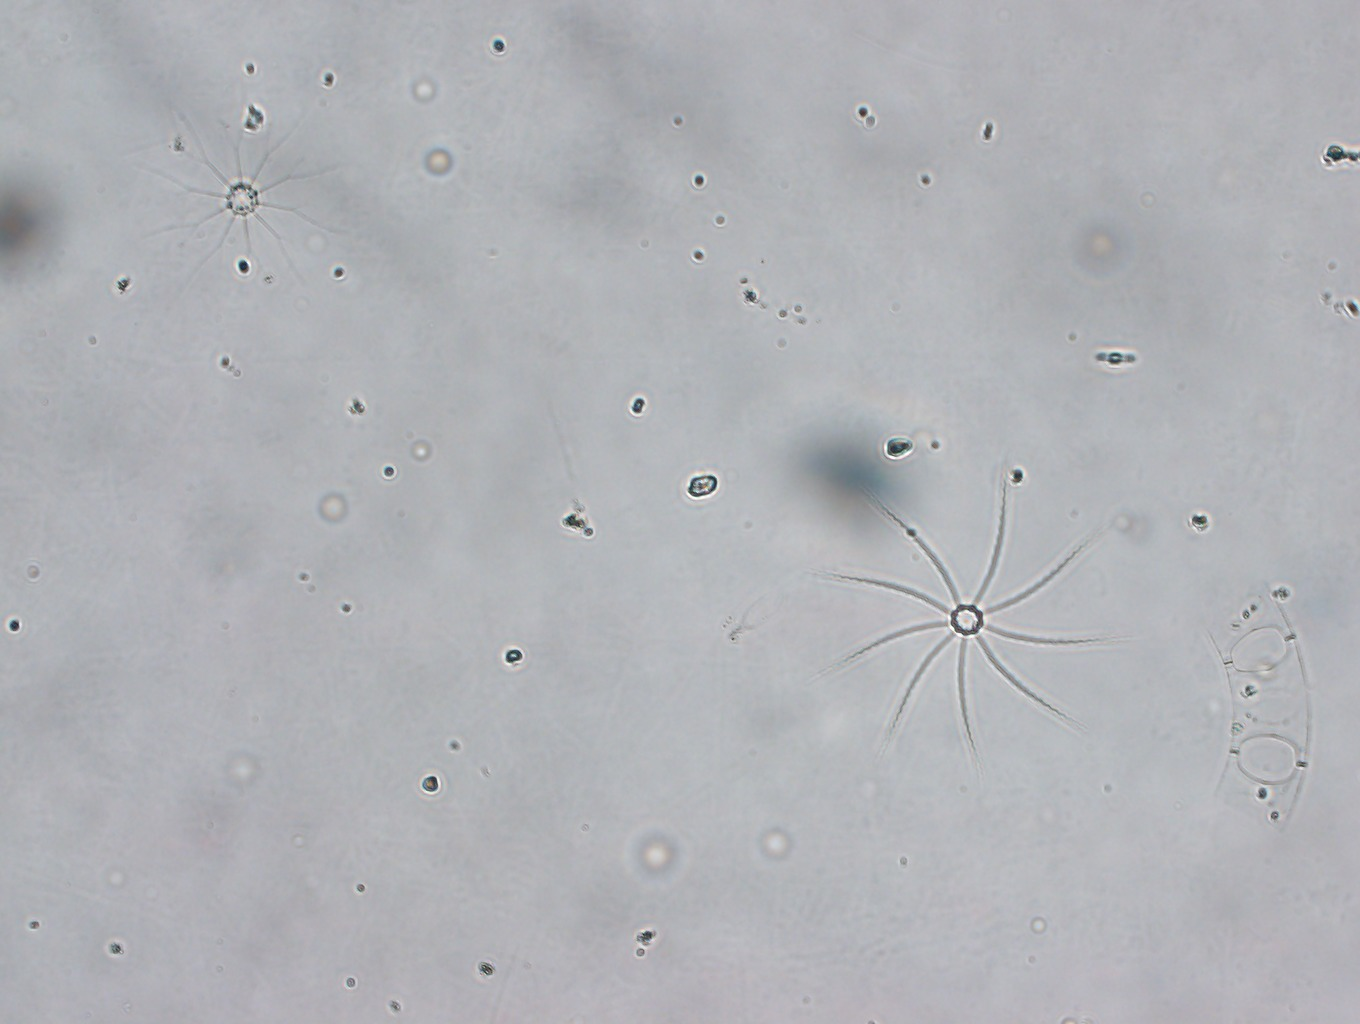bacteriastrum: (807, 456, 1131, 764), (143, 93, 356, 295)
eucampia: (1192, 580, 1323, 833)
